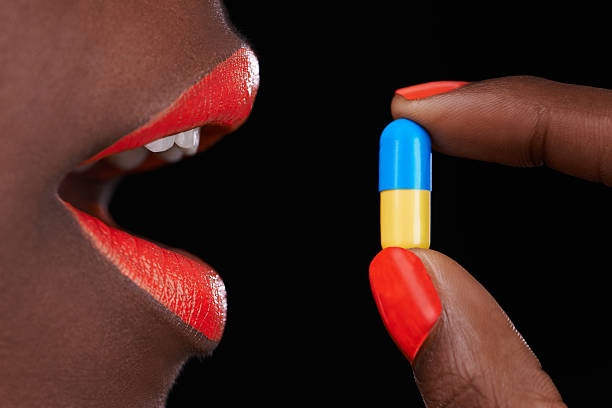pills: (373, 117, 437, 250)
